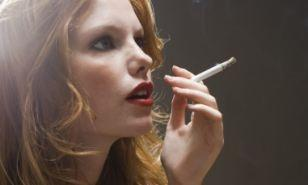cigarette: (190, 55, 239, 84)
